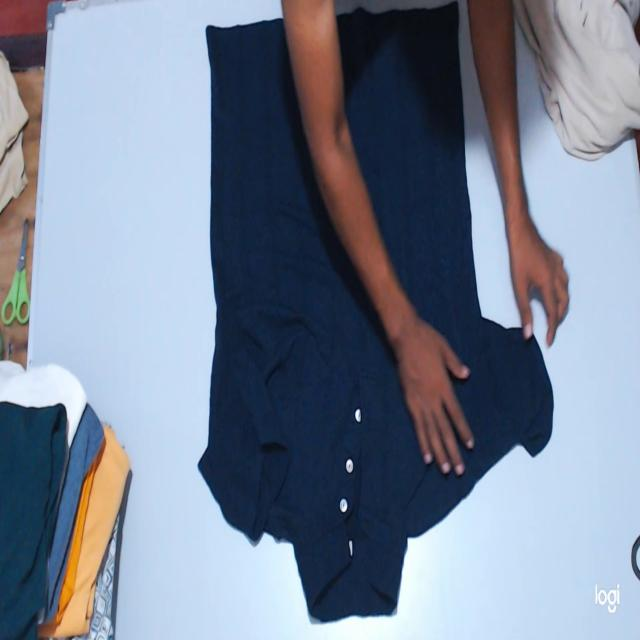new-garment: (200, 5, 553, 620)
